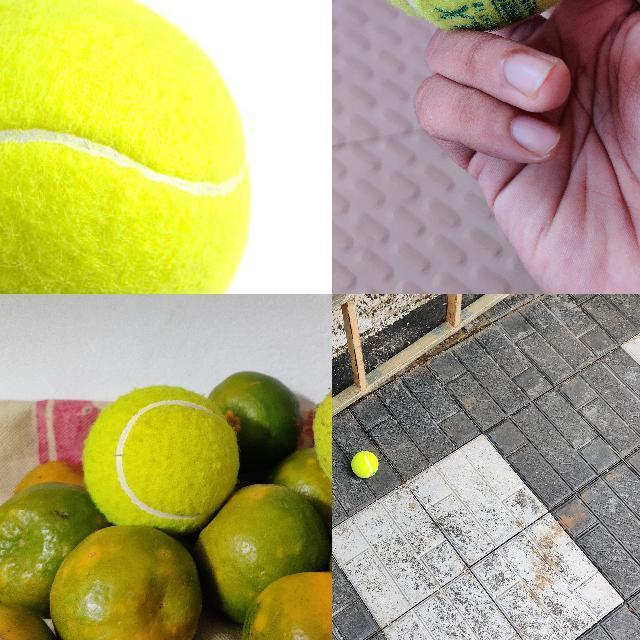tennis-ball: (0, 0, 253, 293), (83, 386, 207, 523), (350, 450, 378, 478)
